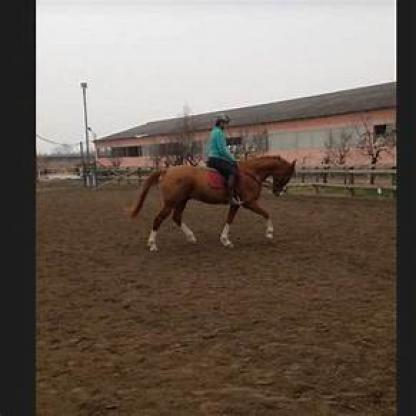horse: (130, 154, 297, 251)
